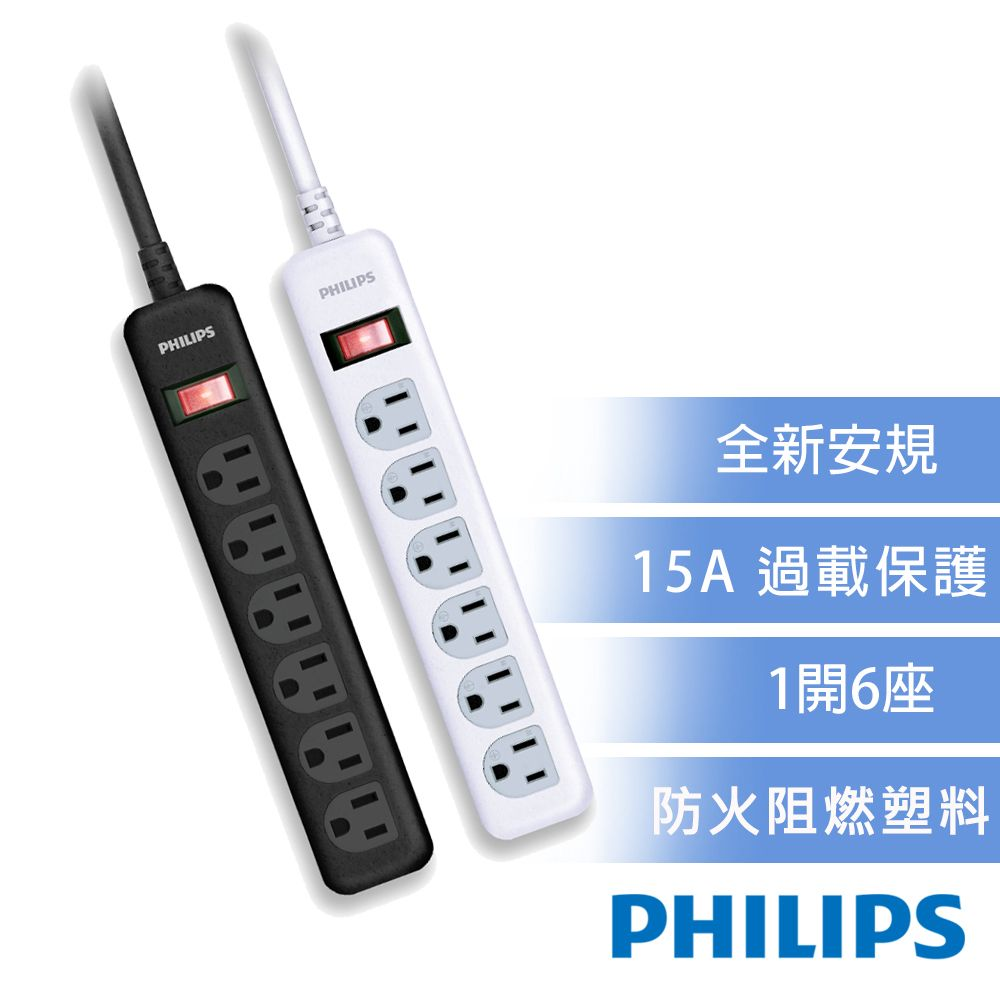socket: (275, 185, 596, 845), (121, 240, 435, 899)
